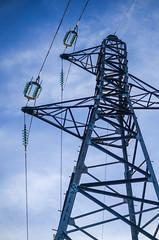power_tower: (22, 31, 159, 240)
